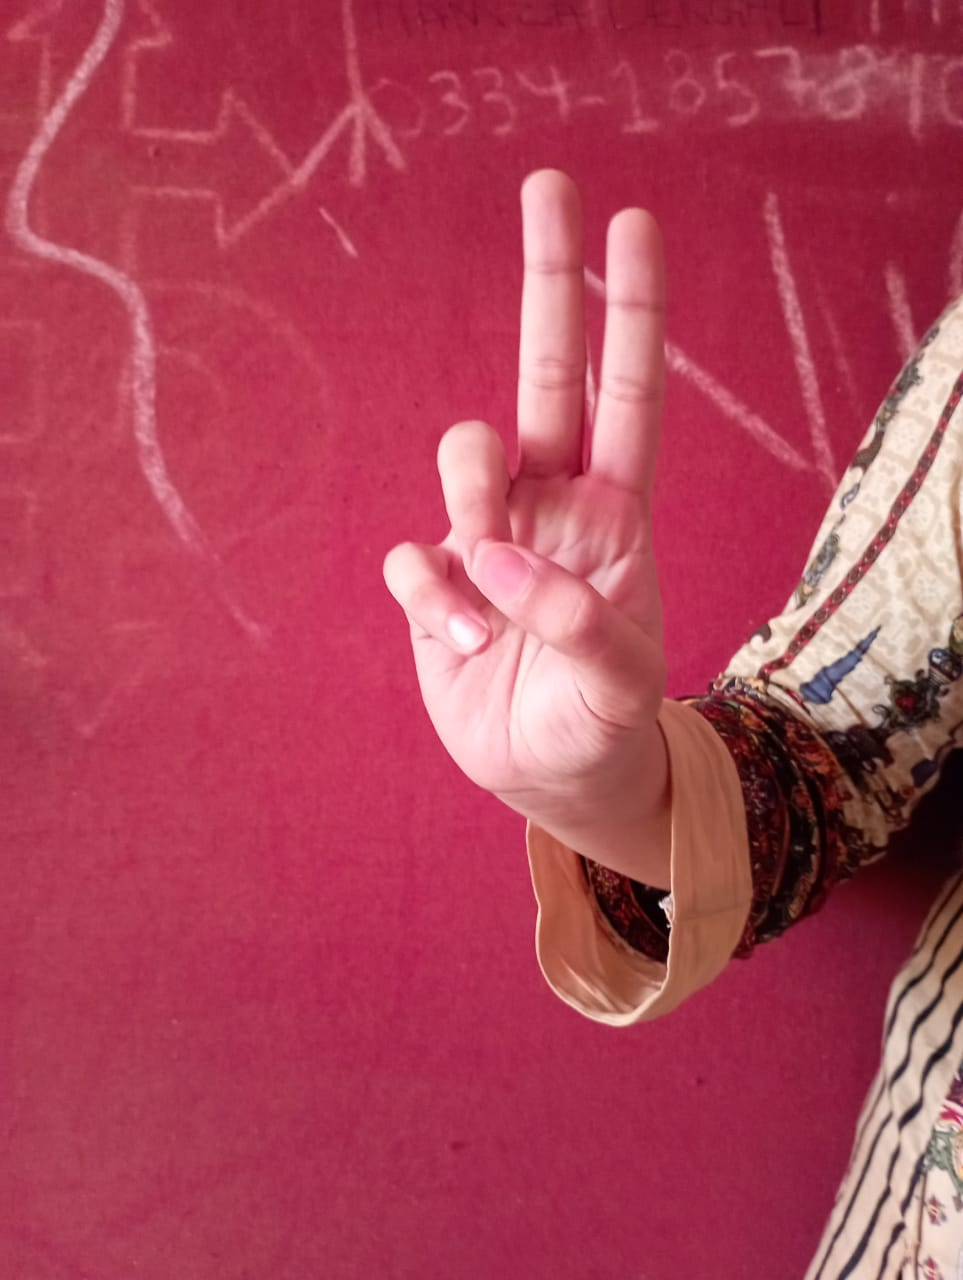Peace: (368, 153, 680, 804)
